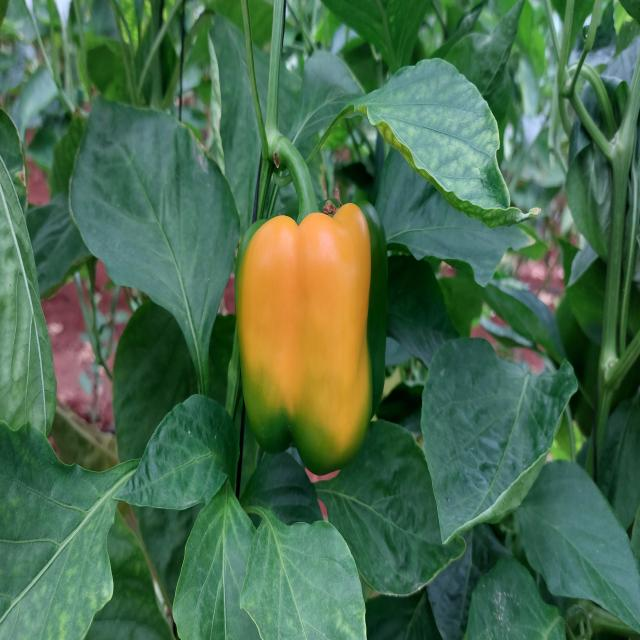Yellow-Ready-to-Harvest: (239, 204, 373, 459)
